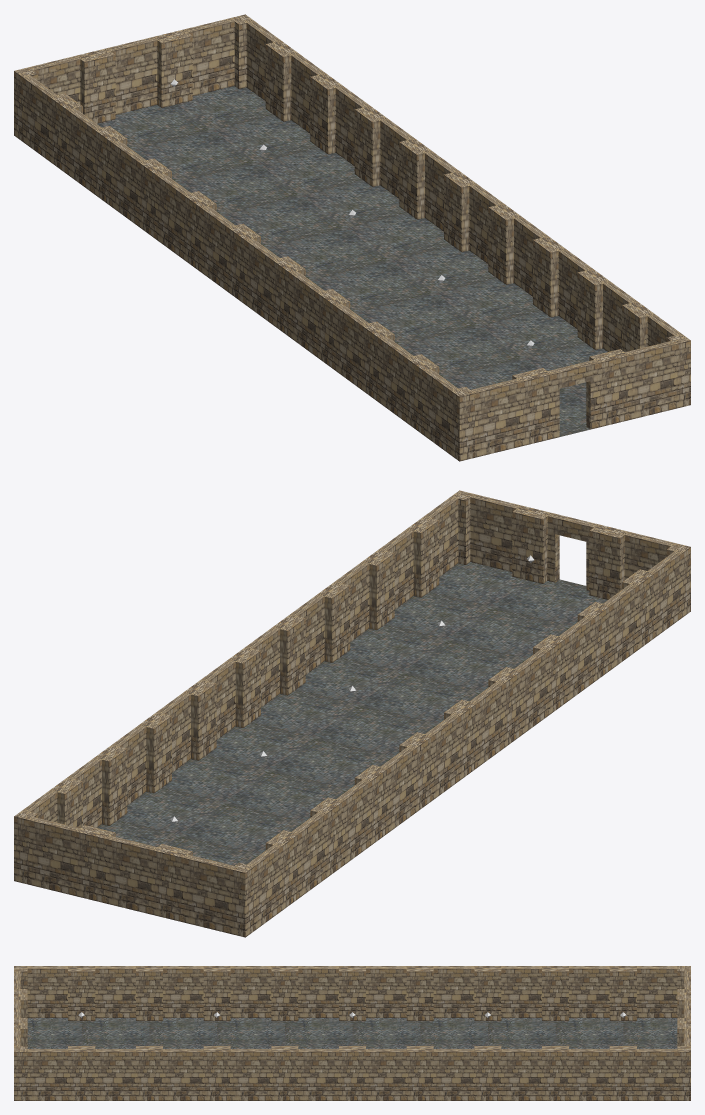
Rendered from 1_deadEndChest.fbx.
The picture shows the model from 3 angles, top to bottom: view 1: azimuth 30°, elevation 25°; view 2: azimuth 150°, elevation 25°; view 3: azimuth 270°, elevation 25°; orthographic projection. The views are drawn at different scales.
Parts seen in each view (by area): view 1: Cube_2, Plane; view 2: Cube_2, Plane; view 3: Cube_2, Plane.
Part boxes in pixels (left/top/right/bottom): Cube_2: left=14, top=14, right=690, bottom=461; Plane: left=97, top=86, right=607, bottom=436; Cube_2: left=14, top=490, right=690, bottom=937; Plane: left=97, top=562, right=607, bottom=865; Cube_2: left=14, top=966, right=690, bottom=1100; Plane: left=27, top=1018, right=677, bottom=1048.
Bounding box in the file's own units: 30 × 8 × 100.
Materials: 3 (3 with a texture image).
